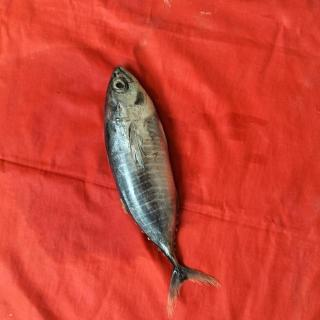Ikan: (92, 59, 231, 309)
